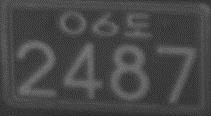0: (58, 9, 86, 36)
2: (15, 37, 59, 100)
4: (63, 40, 104, 101)
6: (91, 10, 119, 37)
7: (155, 45, 197, 105)
8: (109, 43, 150, 102)
도: (123, 11, 152, 38)
